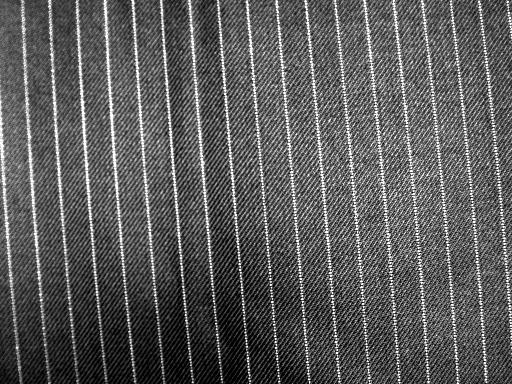fabric_perfect: (2, 2, 510, 382)
